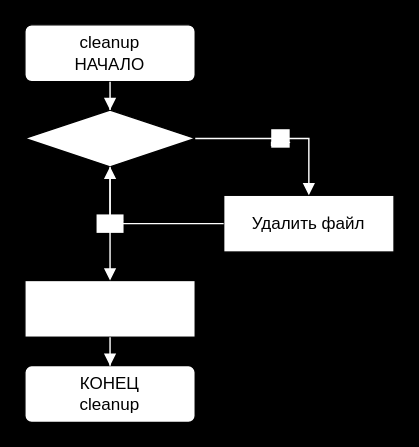
Image size: 419x447. Some labels were removed from this diagram. Each missing label, with the centre of its shape:
Есть temp-файлы?: [109,138]
Очистить список имён: [109,308]
